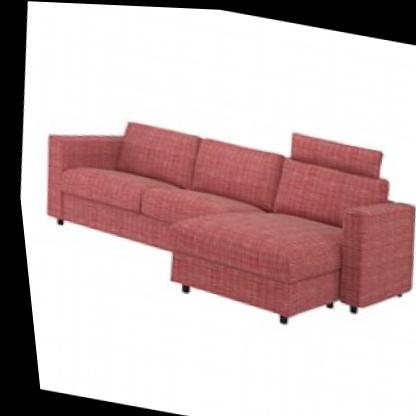Sofa: (8, 53, 416, 359)
